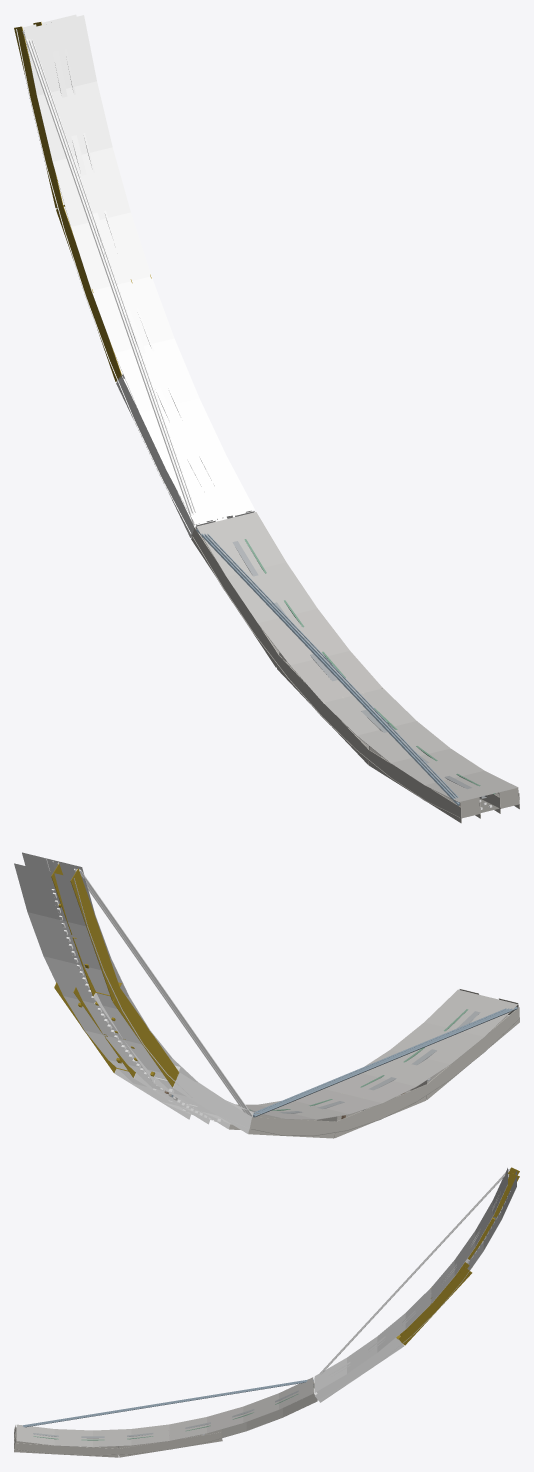
The model's file is xuanshu_interior_C59.glb.
3 renders of one model, top to bottom at view 1: azimuth 30°, elevation 25°; view 2: azimuth 150°, elevation 25°; view 3: azimuth 270°, elevation 25°, orthographic. The views are drawn at different scales.
Parts seen in each view (by area): view 1: UNIT-WTP-005_S0; view 2: UNIT-WTP-005_S0; view 3: UNIT-WTP-005_S0.
Boxes of the visible parts, <box> form: UNIT-WTP-005_S0: <box>14,14,519,823</box>; UNIT-WTP-005_S0: <box>14,852,519,1138</box>; UNIT-WTP-005_S0: <box>14,1167,519,1457</box>.
Bounding box in the file's own units: 13.31 × 103 × 172.
